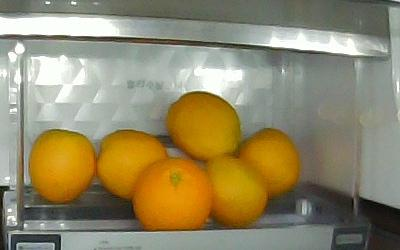orange: (132, 158, 213, 230), (97, 130, 169, 200), (166, 92, 240, 159), (28, 130, 96, 202), (206, 153, 267, 227), (239, 127, 301, 197)
